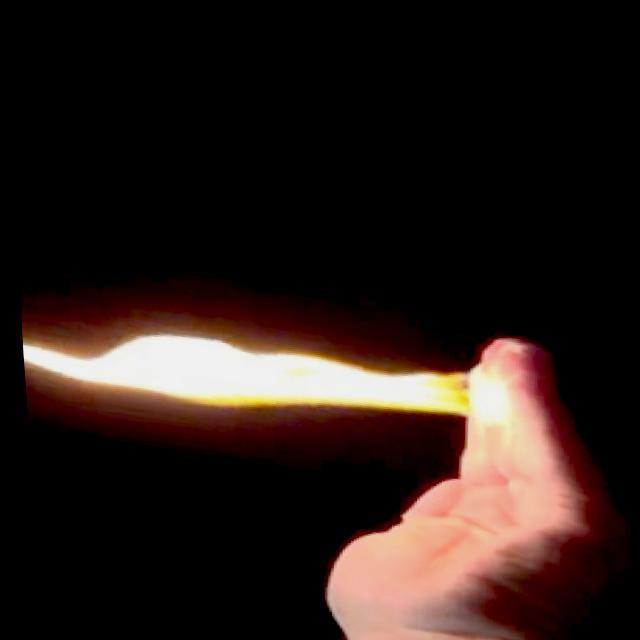Fire: (15, 294, 520, 461)
